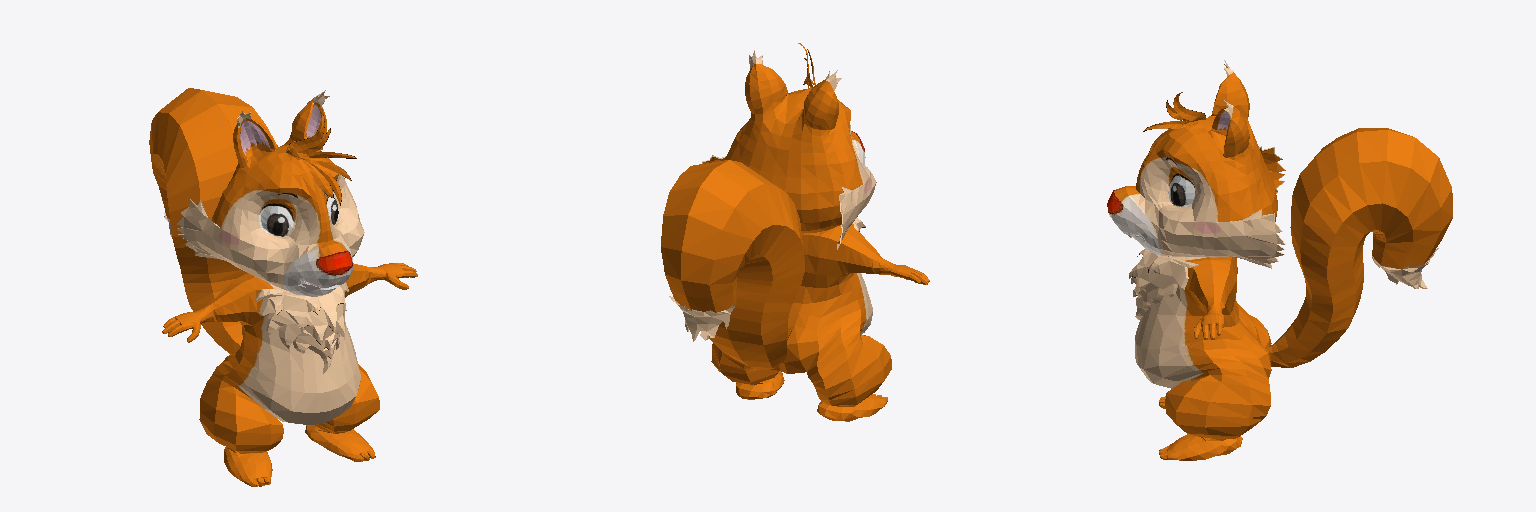
3 views of the same model, side by side, from view 1: azimuth 30°, elevation 25°; view 2: azimuth 150°, elevation 25°; view 3: azimuth 270°, elevation 25° (orthographic).
Parts seen in each view (by area): view 1: polySurface63, polySurface83, polySurface99; view 2: polySurface99, polySurface63, polySurface83; view 3: polySurface99, polySurface83, polySurface63.
Part boxes in pixels (x1,y1,x2,y2): polySurface63: (162, 263, 417, 486); polySurface83: (177, 90, 364, 296); polySurface99: (149, 88, 348, 373); polySurface99: (661, 160, 865, 369); polySurface63: (711, 224, 929, 421); polySurface83: (702, 43, 876, 249); polySurface99: (1129, 128, 1452, 367); polySurface83: (1107, 60, 1285, 268); polySurface63: (1135, 256, 1271, 460).
Bounding box in the file's own units: 19.29 × 25.63 × 22.83.
3 materials, 3 textured.